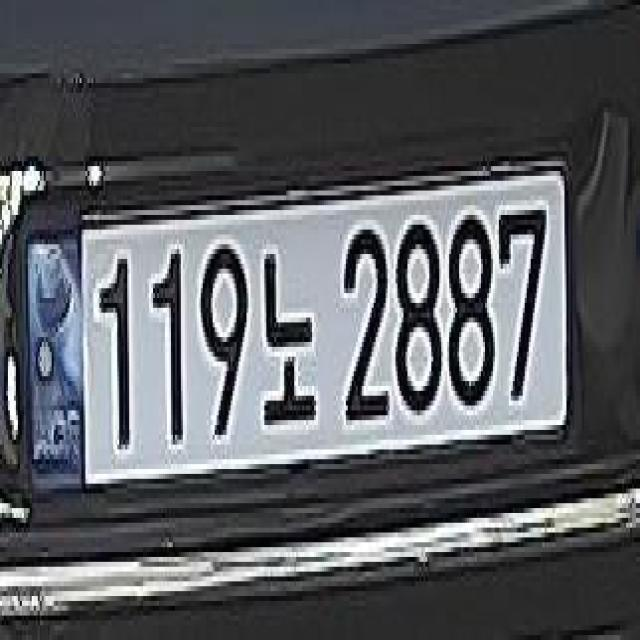illegal_plate: (9, 158, 582, 502)
